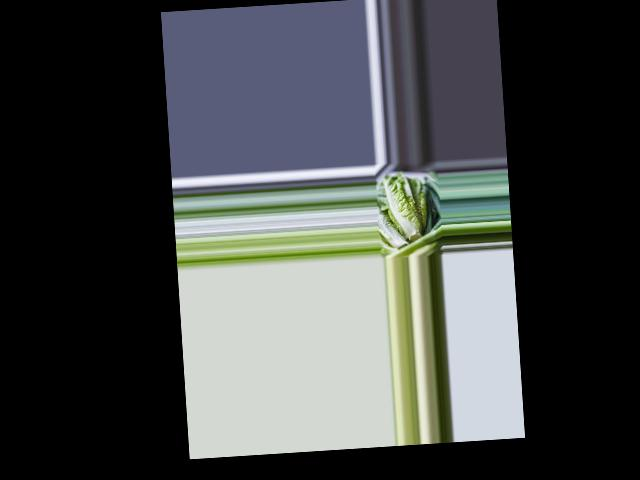lettuce: (381, 171, 429, 243)
